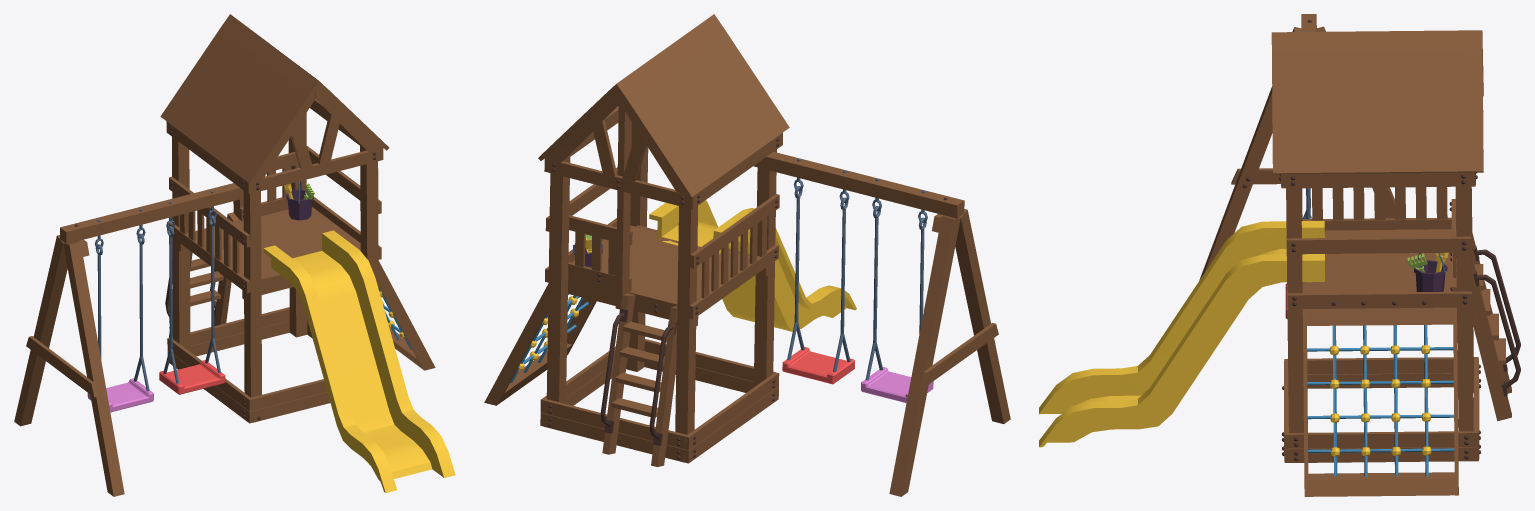
The model's file is Swing.fbx.
3 views of the same model, side by side, from view 1: azimuth 30°, elevation 25°; view 2: azimuth 150°, elevation 25°; view 3: azimuth 270°, elevation 25° (orthographic). The views are drawn at different scales.
Visible parts, largest first — view 1: Swing; view 2: Swing; view 3: Swing.
Part boxes in pixels (x1,y1,x2,y2): Swing: [14, 14, 455, 496]; Swing: [484, 14, 1010, 496]; Swing: [1039, 14, 1520, 496].
Size of the model in its own units: 274 by 237 by 260.
